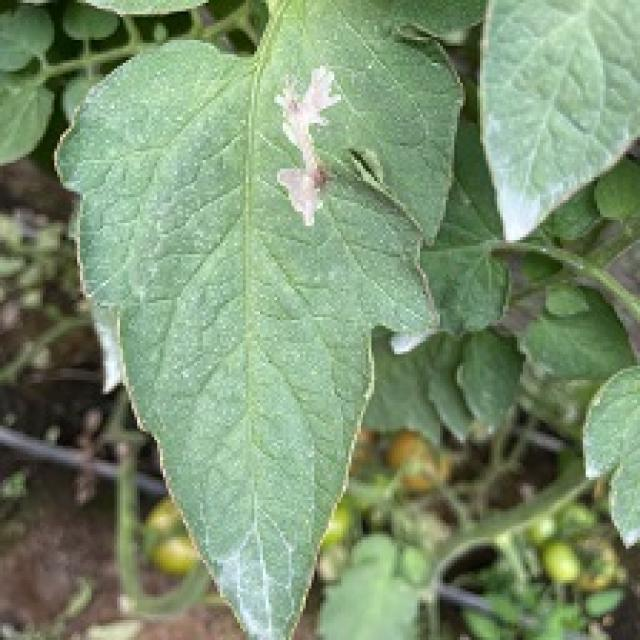Tuta absoluta: (273, 65, 339, 227)
